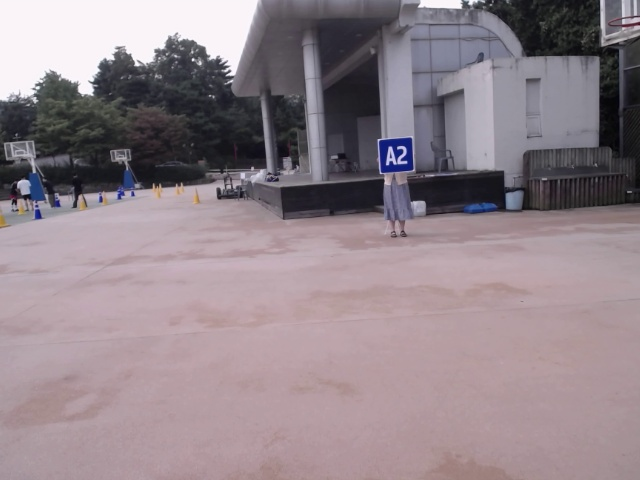delivery_a2: (378, 136, 414, 174)
